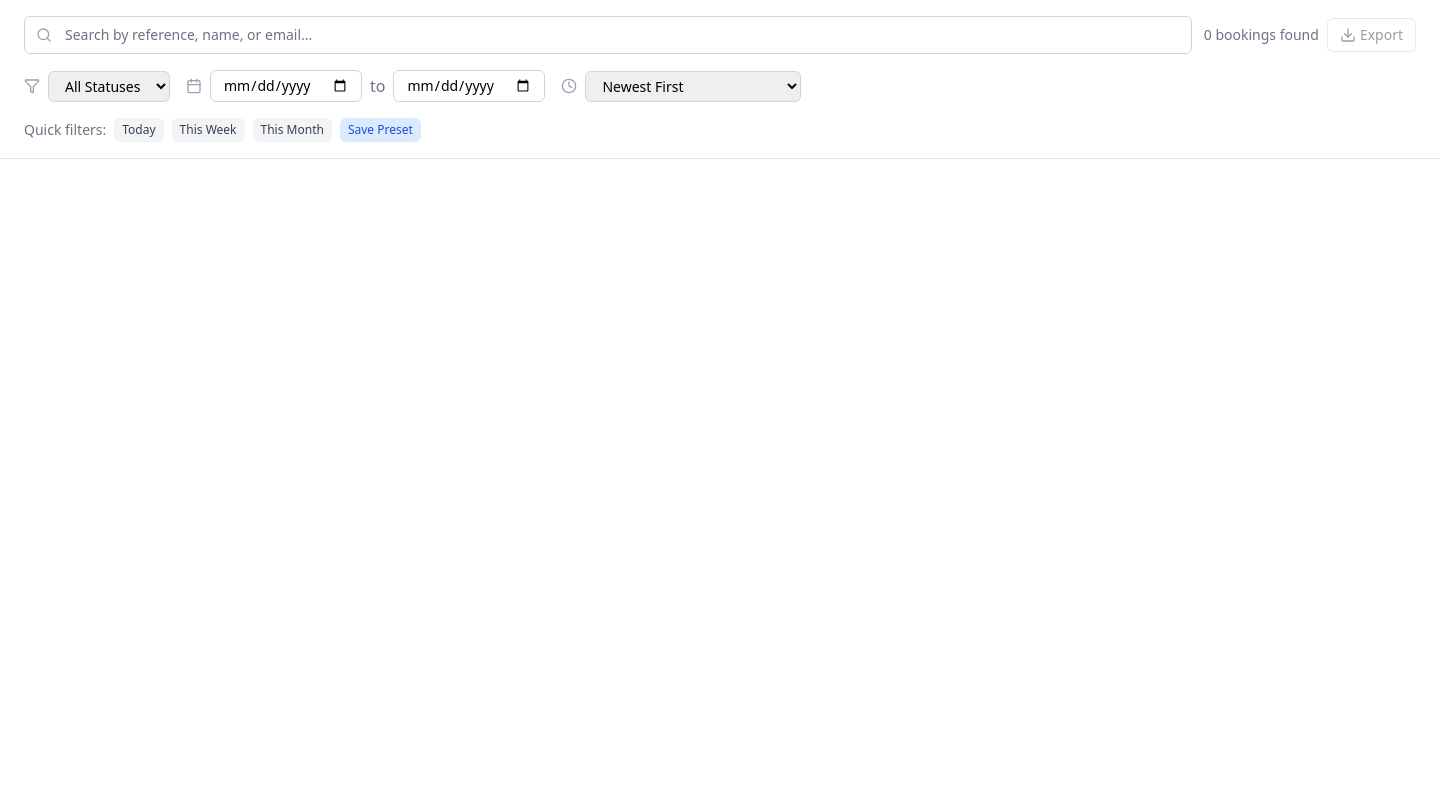
Test: BookingSearchBar › should save and load filter presets
// Apply some filters first
Select "Confirmed" in the dropdown named "Status filter". click: point(109, 86)
box: x1=48 y1=70 x2=170 y2=102
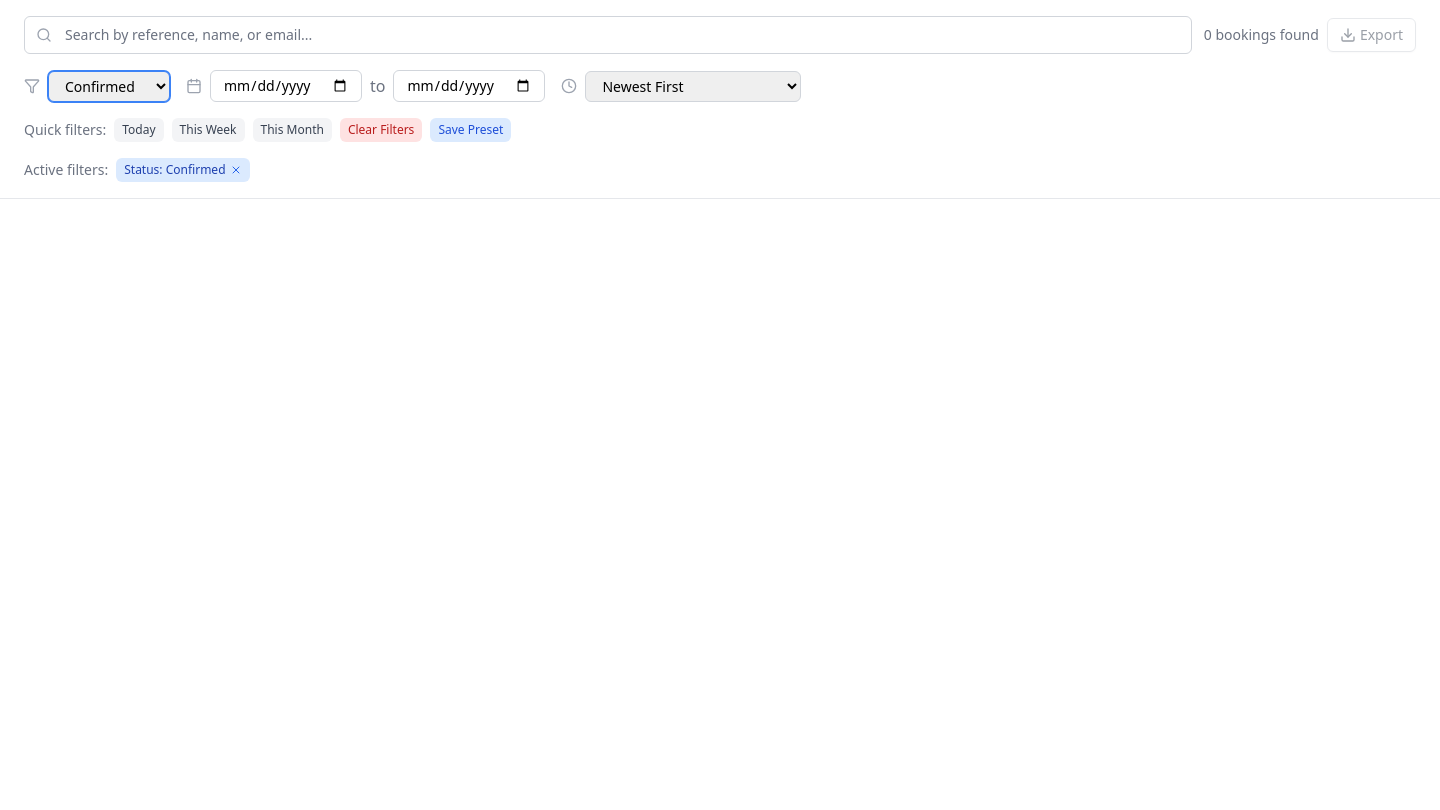
// Save as preset
Click the button "Save Preset". click: point(471, 130)
box: x1=430 y1=118 x2=511 y2=142
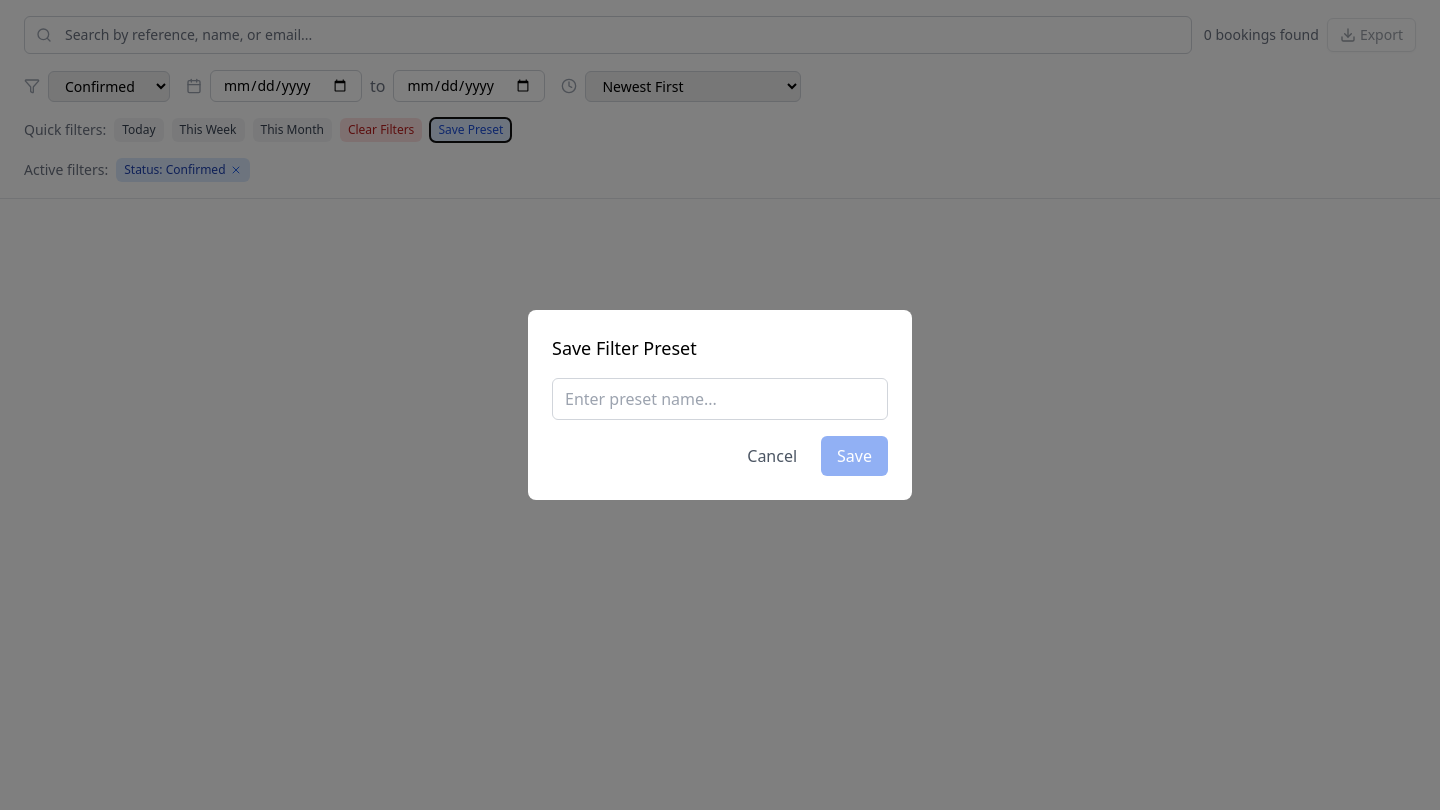
Type "Confirmed Bookings" into the field with placeholder "Enter preset name...". click: point(720, 399)
box: x1=552 y1=378 x2=888 y2=420
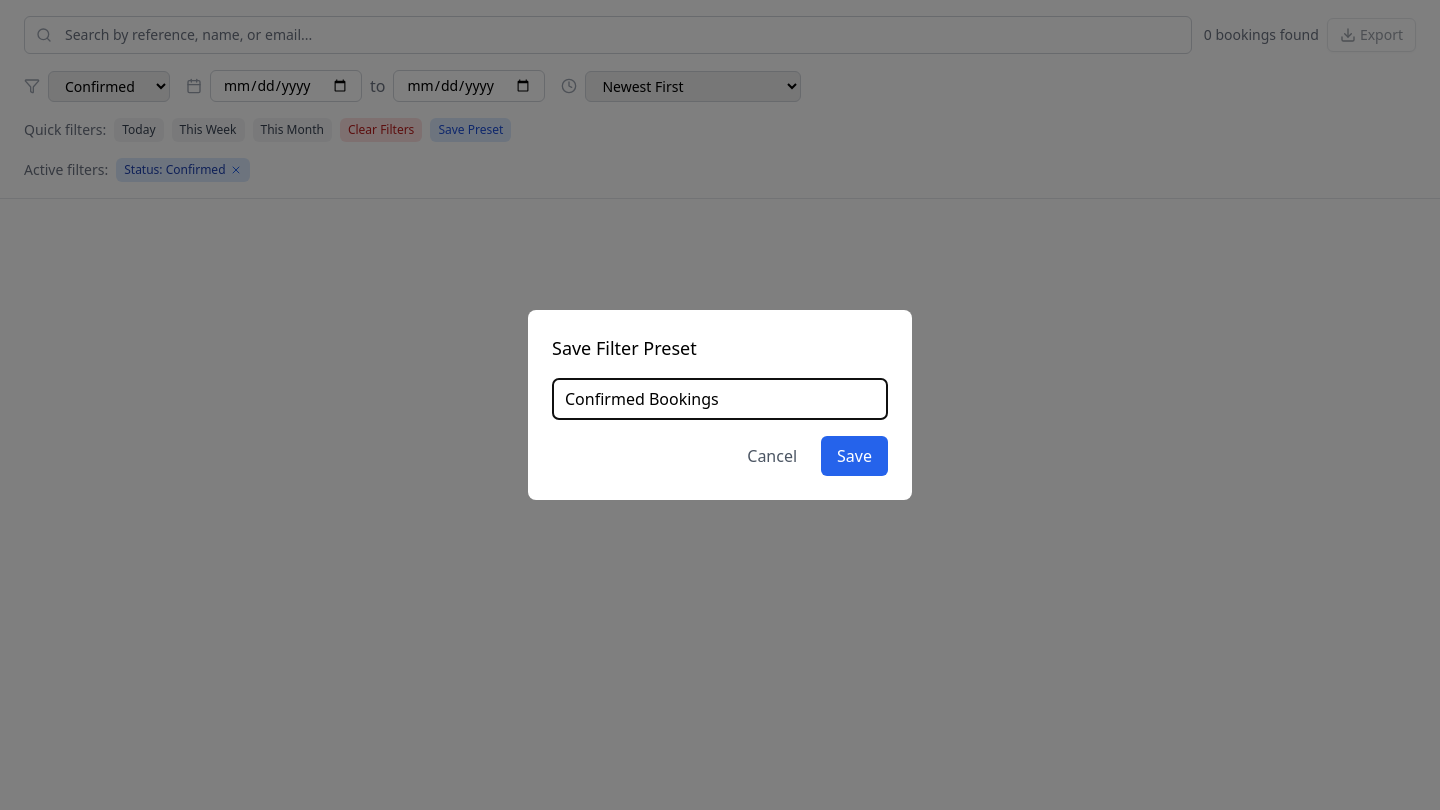
Click the button "Save". click: point(855, 456)
box: x1=821 y1=436 x2=888 y2=476
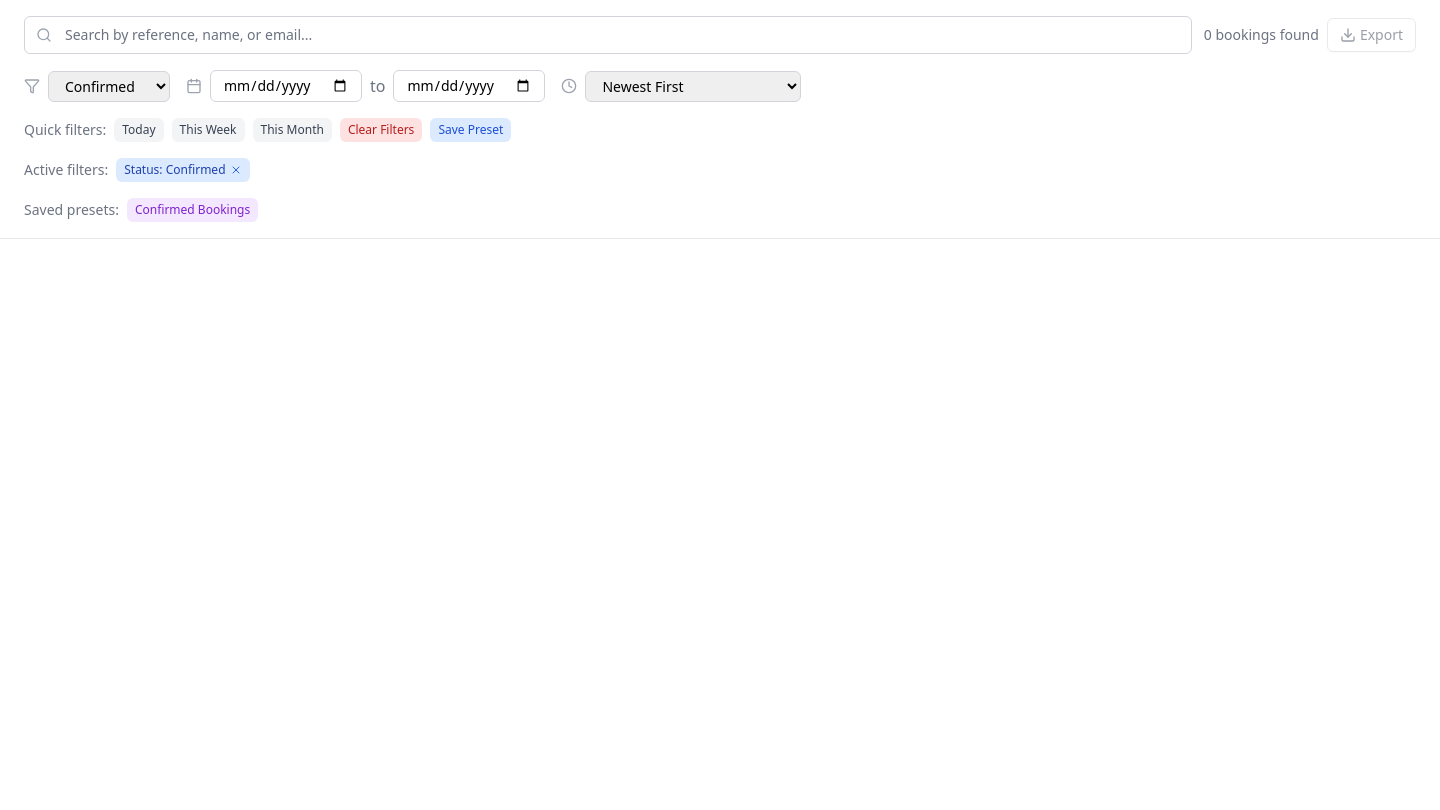
Expected: the button "Confirmed Bookings" is shown, x1=127 y1=198 x2=258 y2=222
